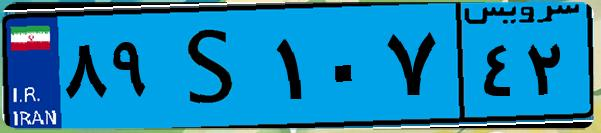0: (330, 28, 385, 110)
1: (270, 28, 330, 110)
2: (525, 38, 570, 115)
4: (475, 38, 525, 113)
7: (385, 28, 445, 110)
8: (57, 26, 110, 100)
9: (110, 28, 158, 98)
S: (158, 12, 270, 120)
